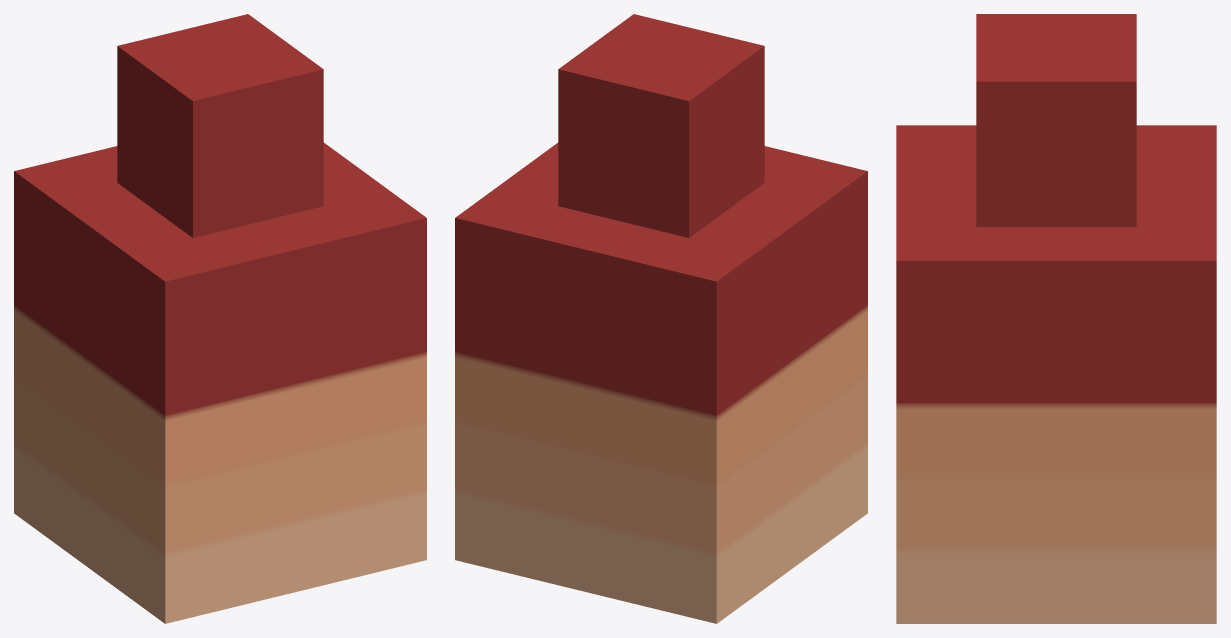
Rendered from Hip064.fbx.
3 renders of one model, left to right at view 1: azimuth 30°, elevation 25°; view 2: azimuth 150°, elevation 25°; view 3: azimuth 270°, elevation 25°, orthographic. The views are drawn at different scales.
Visible parts, largest first — view 1: Hip064; view 2: Hip064; view 3: Hip064.
Boxes of the visible parts, x1,y1,x2,y2 form: Hip064: (14,14,426,623); Hip064: (455,14,867,623); Hip064: (896,14,1216,623).
Bounding box in the file's own units: 4 × 7 × 4.
